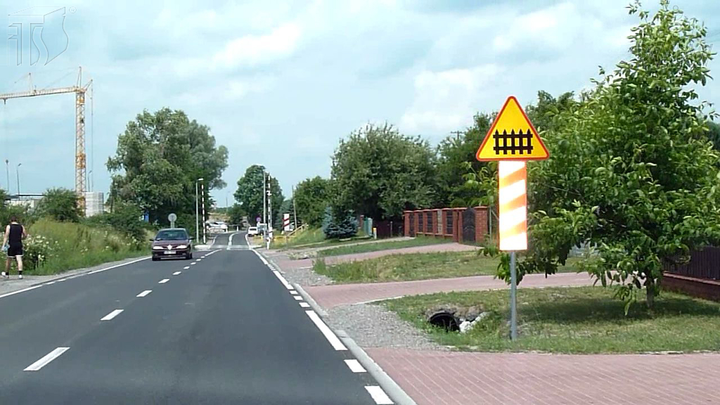a9: (492, 126, 537, 155)
